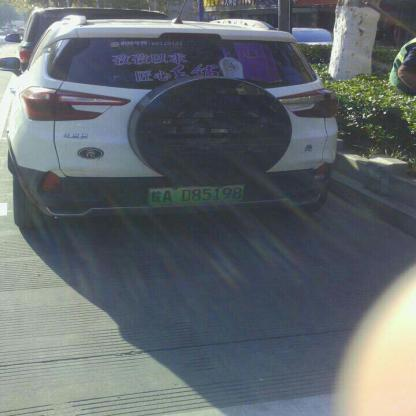lp: (148, 186, 245, 205)
